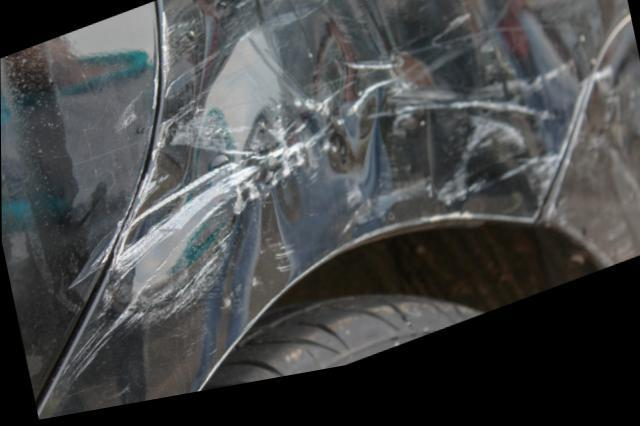scratch: (111, 53, 559, 326)
